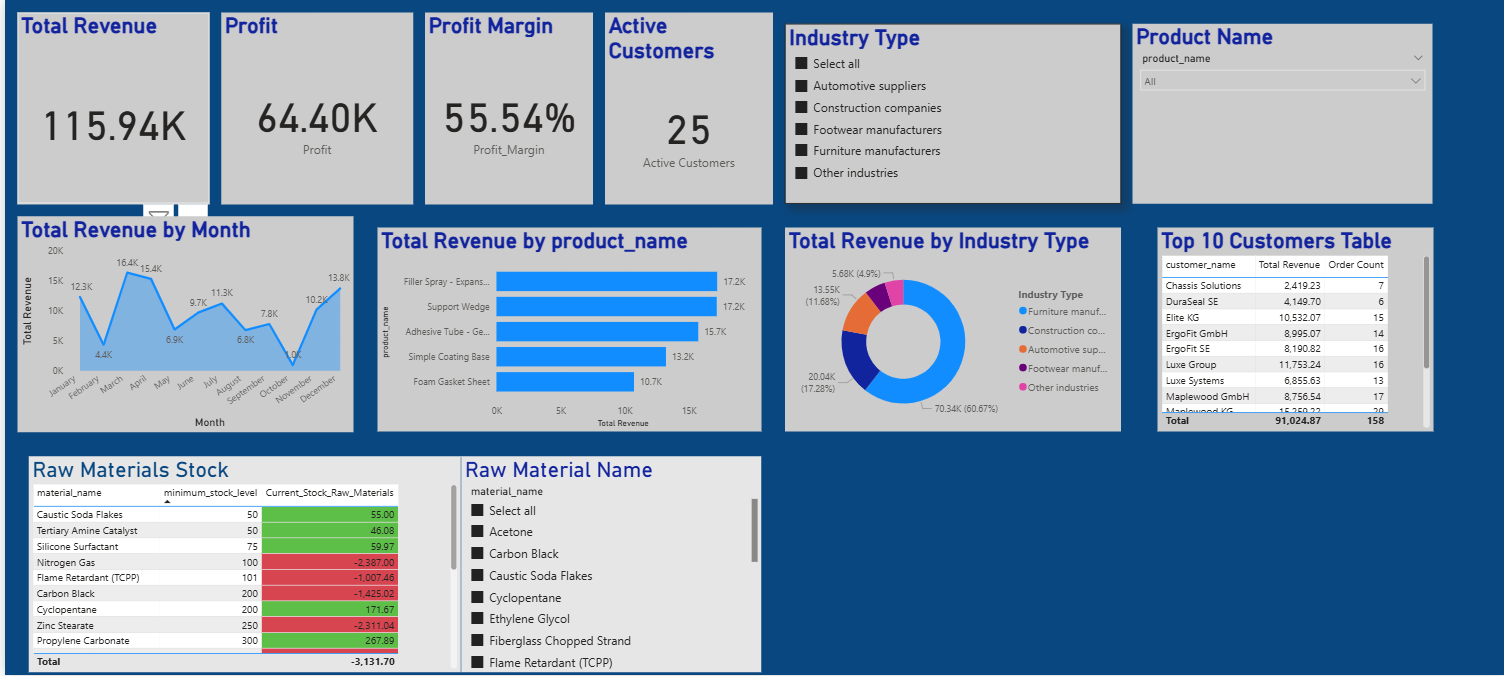

What the dashboard file says about the page in this screenshot:
{"tool":"powerbi","page":{"name":"Page 2","canvas":[2000,900],"ordinal":1},"visuals":[{"type":"card","title":"Total Revenue","fields":{"Values":["Sales_Orders.Total Revenue"]},"box":[16,16,256,256],"z":0},{"type":"card","title":"Profit","fields":{"Values":["Batch_Productions.Profit"]},"box":[288,16,256,256],"z":1000},{"type":"card","title":"Profit Margin","fields":{"Values":["Batch_Productions.Profit_Margin"]},"box":[560,16,224,256],"z":2000},{"type":"card","title":"Active Customers","fields":{"Values":["Customers.Active Customers"]},"box":[800,16,224,256],"z":3000},{"type":"lineChart","fields":{"Category":["Sales_Orders.order_date.Variation.Date Hierarchy.Month"],"Y":["Sales_Orders.Total Revenue"]},"box":[16,288,448,288],"z":4000},{"type":"clusteredBarChart","fields":{"Category":["Products.product_name"],"Y":["Sales_Orders.Total Revenue"]},"box":[496,304,512,272],"z":5000},{"type":"donutChart","fields":{"Category":["Customers.Industry Type"],"Y":["Sales_Orders.Total Revenue"]},"box":[1040,304,448,272],"z":6000},{"type":"slicer","title":"Industry Type","fields":{"Values":["Customers.Industry Type"]},"box":[1040,32,448,240],"z":7000},{"type":"slicer","title":"Product Name","fields":{"Values":["Products.product_name"]},"box":[1504,32,400,240],"z":8000},{"type":"tableEx","title":"Top 10 Customers Table","fields":{"Values":["Customers.customer_name","Sales_Orders.Total Revenue","Sales_Orders.Order Count"]},"box":[1536,304,368,272],"z":9000},{"type":"tableEx","title":"Raw Materials Stock","fields":{"Values":["Raw_Materials.material_name","Raw_Materials.minimum_stock_level","Raw_Materials.Current_Stock_Raw_Materials"]},"box":[32,608,576,288],"z":10000}]}

Visuals, with their boxes in screenshot pixels (x1, y1, x2, y2), scaled from the page's 2000x900 canvas onto the 1504x676 screenshot:
"Total Revenue" card: 12,12,205,204
"Profit" card: 217,12,409,204
"Profit Margin" card: 421,12,590,204
"Active Customers" card: 602,12,770,204
lineChart - Sales_Orders.order_date.Variation.Date Hierarchy.Month x Sales_Orders.Total Revenue: 12,216,349,433
clusteredBarChart - Products.product_name x Sales_Orders.Total Revenue: 373,228,758,433
donutChart - Customers.Industry Type x Sales_Orders.Total Revenue: 782,228,1119,433
"Industry Type" slicer: 782,24,1119,204
"Product Name" slicer: 1131,24,1432,204
"Top 10 Customers Table" tableEx: 1155,228,1432,433
"Raw Materials Stock" tableEx: 24,457,457,673
